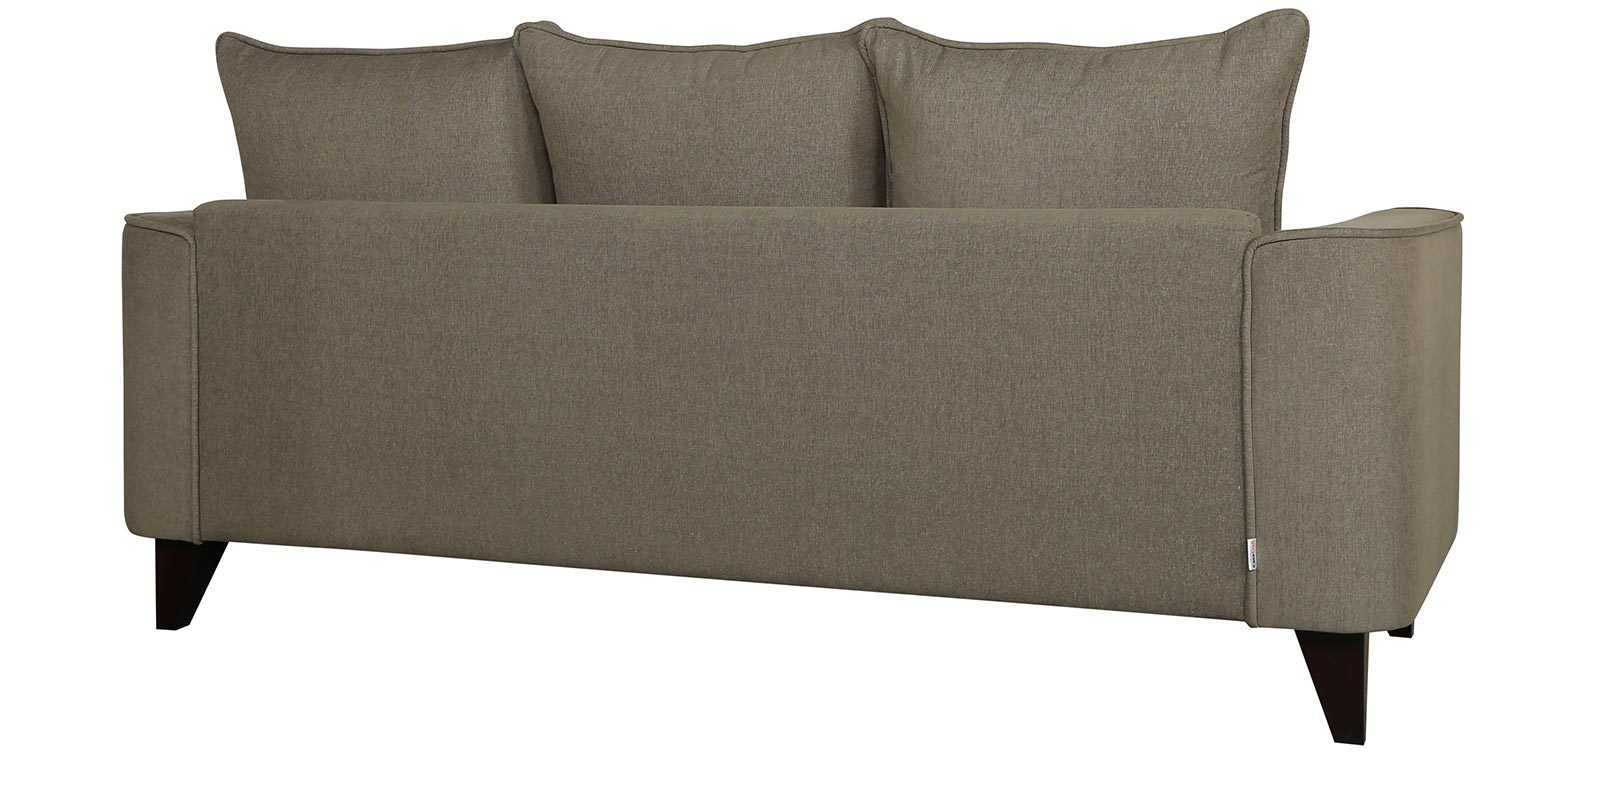Lara Three Seater Sofa in Sandy Brown Colour by CasaCraft: (121, 5, 1462, 746)
